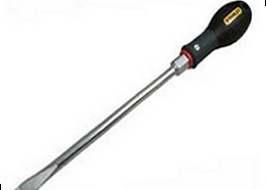Screwdriver: (15, 2, 257, 190)
